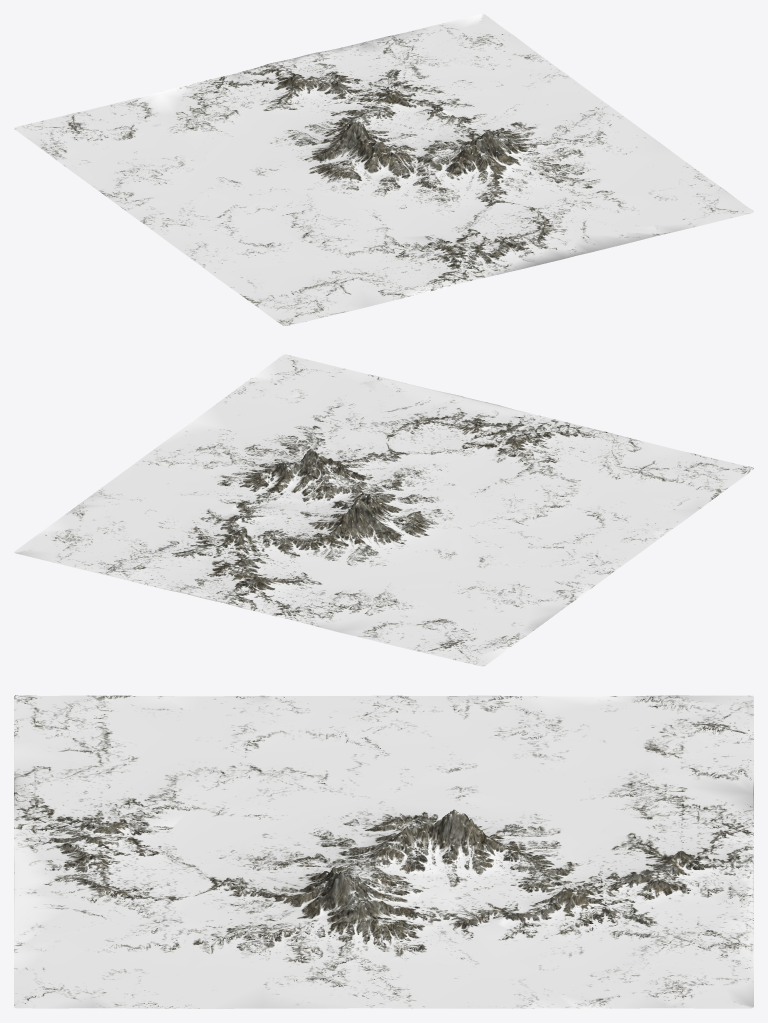
3 renders of one model, top to bottom at view 1: azimuth 30°, elevation 25°; view 2: azimuth 150°, elevation 25°; view 3: azimuth 270°, elevation 25°, orthographic. The views are drawn at different scales.
Parts seen in each view (by area): view 1: Plane_0; view 2: Plane_0; view 3: Plane_0.
Part boxes in pixels (left/top/right/bottom): Plane_0: left=14, top=14, right=753, bottom=325; Plane_0: left=14, top=354, right=753, bottom=666; Plane_0: left=14, top=695, right=753, bottom=1008.
Bounding box in the file's own units: 40 × 2.5 × 40.01.
1 material, 1 textured.
